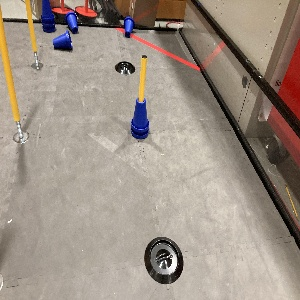Blue_2: (129, 97, 150, 141)
